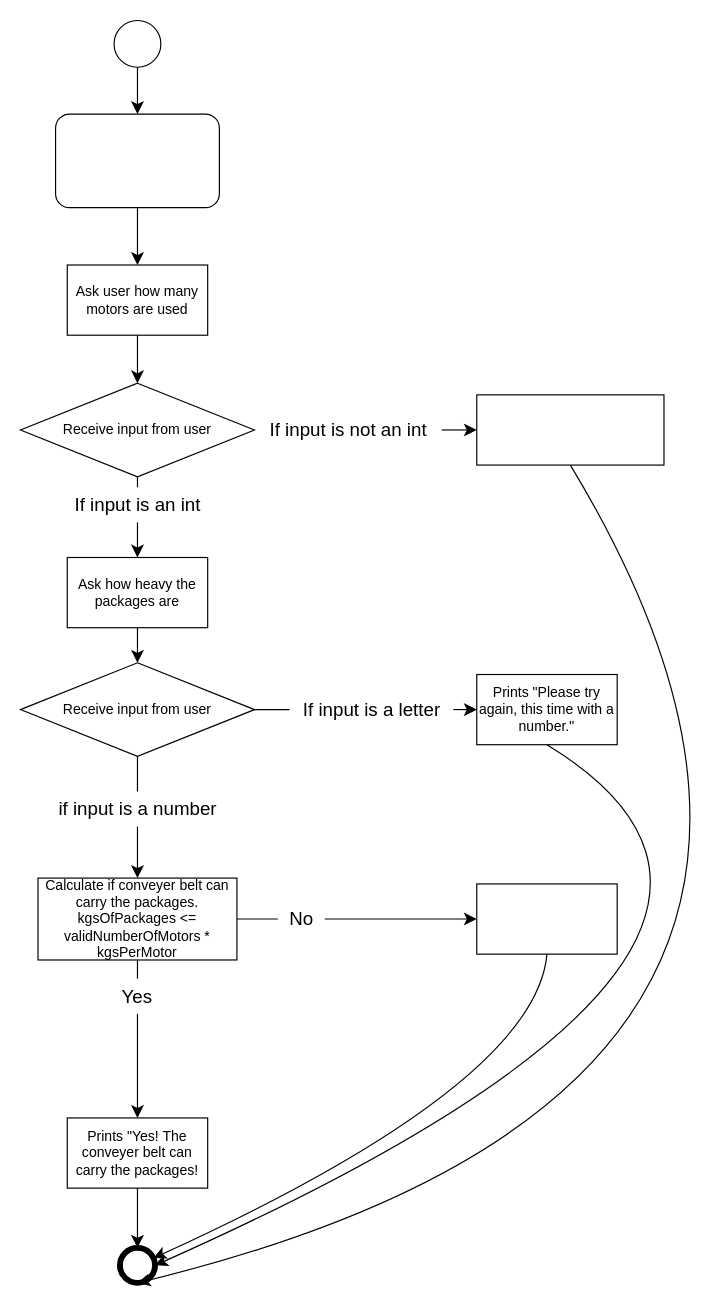
Some shapes in this 711 by 1306 pixel diagram are drawn without their labels. Here are the shapes that lost their labels. From the top down, the centre of each, then its label:
the point at 136,160: Defines the amount of weight each motor can carry. kgsPerMotor = 5.6;
the point at 570,429: Print: "Please try again, this time with a whole number (e.g.: 2, 5)."
the point at 546,918: Prints "No. The conveyer belt cannot carry the packages"
